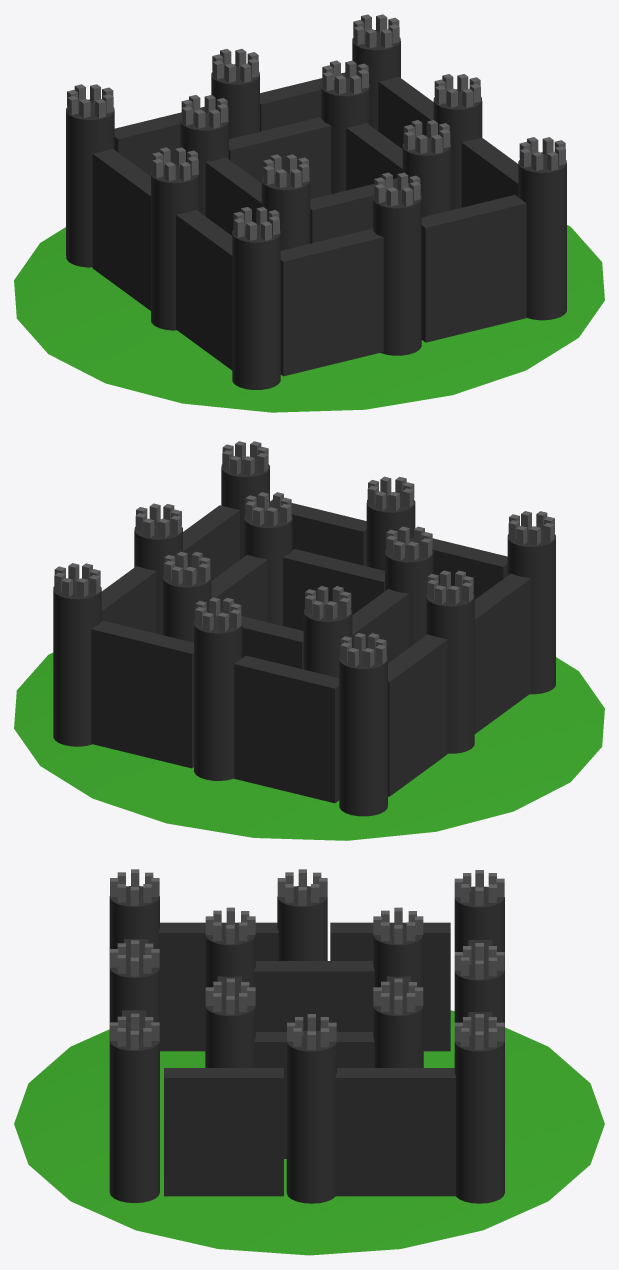
The model's file is CastleSize3.fbx.
The picture shows the model from 3 angles, top to bottom: view 1: azimuth 30°, elevation 25°; view 2: azimuth 150°, elevation 25°; view 3: azimuth 270°, elevation 25°; orthographic projection. The views are drawn at different scales.
Visible parts, largest first — view 1: pCone1, pCube37, pCube12, pCube54, pCube10, pCylinder3, pCylinder5, pCylinder4, pCylinder13, pCylinder1, castle_size_1:pCube9, pCube126 (+13 smaller); view 2: pCone1, pCube117, pCube116, pCube54, pCube10, pCylinder13, pCylinder12, pCylinder11, pCylinder1, pCylinder3, castle_size_1:pCube12, pCube37 (+13 smaller); view 3: pCone1, pCube115, pCube126, pCylinder5, pCylinder10, castle_size_1:pCube10, pCylinder11, pCube10, pCube54, pCylinder1, castle_size_1:pCylinder4, castle_size_1:pCylinder2 (+7 smaller).
Boxes of the visible parts, x1=… form: pCone1: x1=14, y1=225, x2=604, y2=412; pCube37: x1=421, y1=195, x2=526, y2=342; pCube12: x1=280, y1=228, x2=383, y2=376; pCube54: x1=92, y1=149, x2=150, y2=310; pCube10: x1=176, y1=210, x2=232, y2=370; pCylinder3: x1=232, y1=222, x2=280, y2=389; pCylinder5: x1=518, y1=152, x2=566, y2=320; pCylinder4: x1=373, y1=188, x2=421, y2=355; pCylinder13: x1=66, y1=99, x2=114, y2=267; pCylinder1: x1=151, y1=162, x2=199, y2=330; castle_size_1:pCube9: x1=229, y1=117, x2=331, y2=199; pCube126: x1=461, y1=137, x2=518, y2=207; pCone1: x1=14, y1=652, x2=604, y2=840; pCube117: x1=234, y1=655, x2=339, y2=803; pCube116: x1=91, y1=620, x2=193, y2=768; pCube54: x1=388, y1=634, x2=447, y2=796; pCube10: x1=474, y1=573, x2=530, y2=733; pCylinder13: x1=339, y1=651, x2=387, y2=816; pCylinder12: x1=194, y1=615, x2=242, y2=780; pCylinder11: x1=53, y1=581, x2=101, y2=746; pCylinder1: x1=426, y1=586, x2=474, y2=753; pCylinder3: x1=507, y1=526, x2=555, y2=694; castle_size_1:pCube12: x1=283, y1=549, x2=384, y2=630; pCube37: x1=269, y1=499, x2=366, y2=566; pCone1: x1=14, y1=1010, x2=604, y2=1255; pCube115: x1=335, y1=1068, x2=455, y2=1196; pCube126: x1=164, y1=1068, x2=283, y2=1196; pCylinder5: x1=109, y1=1030, x2=159, y2=1202; pCylinder10: x1=286, y1=1030, x2=336, y2=1203; castle_size_1:pCube10: x1=254, y1=961, x2=374, y2=1031; pCylinder11: x1=454, y1=1030, x2=504, y2=1203; pCube10: x1=158, y1=922, x2=278, y2=1051; pCube54: x1=330, y1=922, x2=450, y2=1051; pCylinder1: x1=277, y1=886, x2=327, y2=960; castle_size_1:pCylinder4: x1=205, y1=995, x2=255, y2=1067; castle_size_1:pCylinder2: x1=373, y1=995, x2=423, y2=1067.
Bounding box in the file's own units: 7.42 × 2.3 × 7.05.
